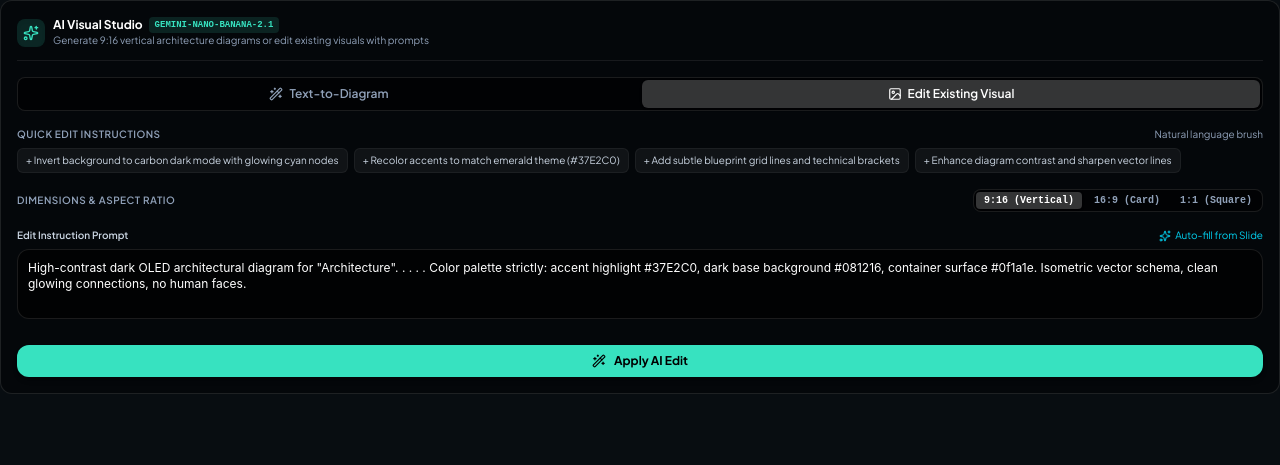
Test case: SlideImageStudio › rejects remote edit sources before making a request
Click the button "Apply AI Edit" at coordinates (640, 361), box [17,345,1263,377]
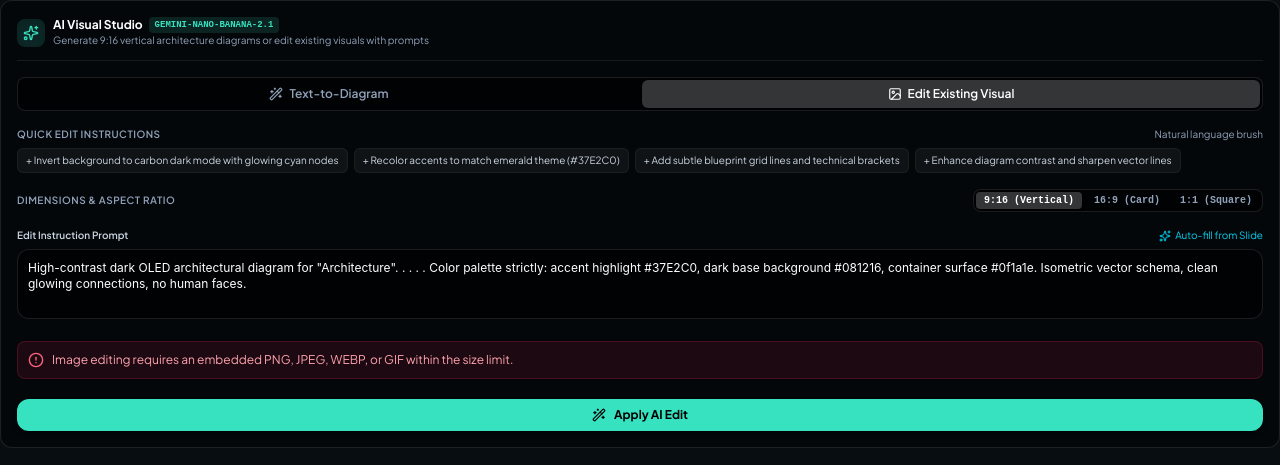
Expected: the text "embedded PNG, JPEG, WEBP, or GIF" is shown, [52,352,513,367]
